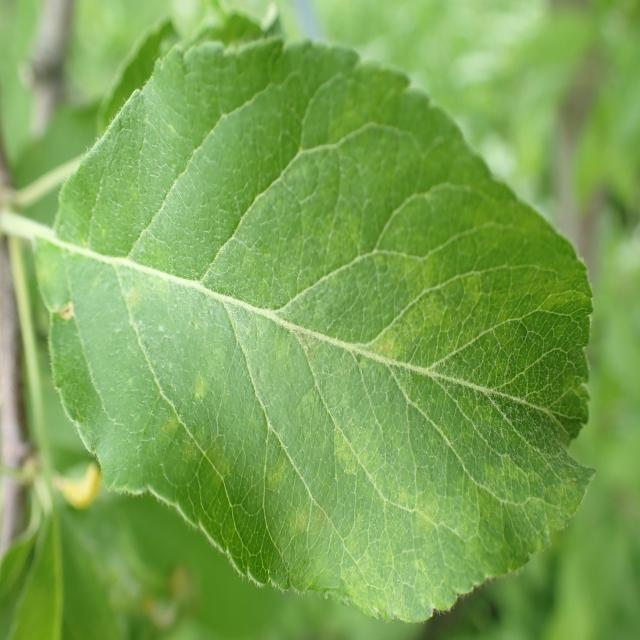scab: (88, 199, 577, 612)
